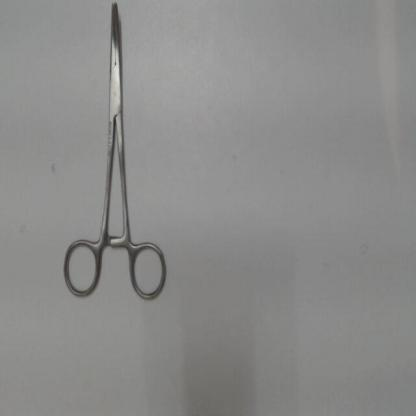Crile Artery Forceps: (54, 0, 174, 309)
